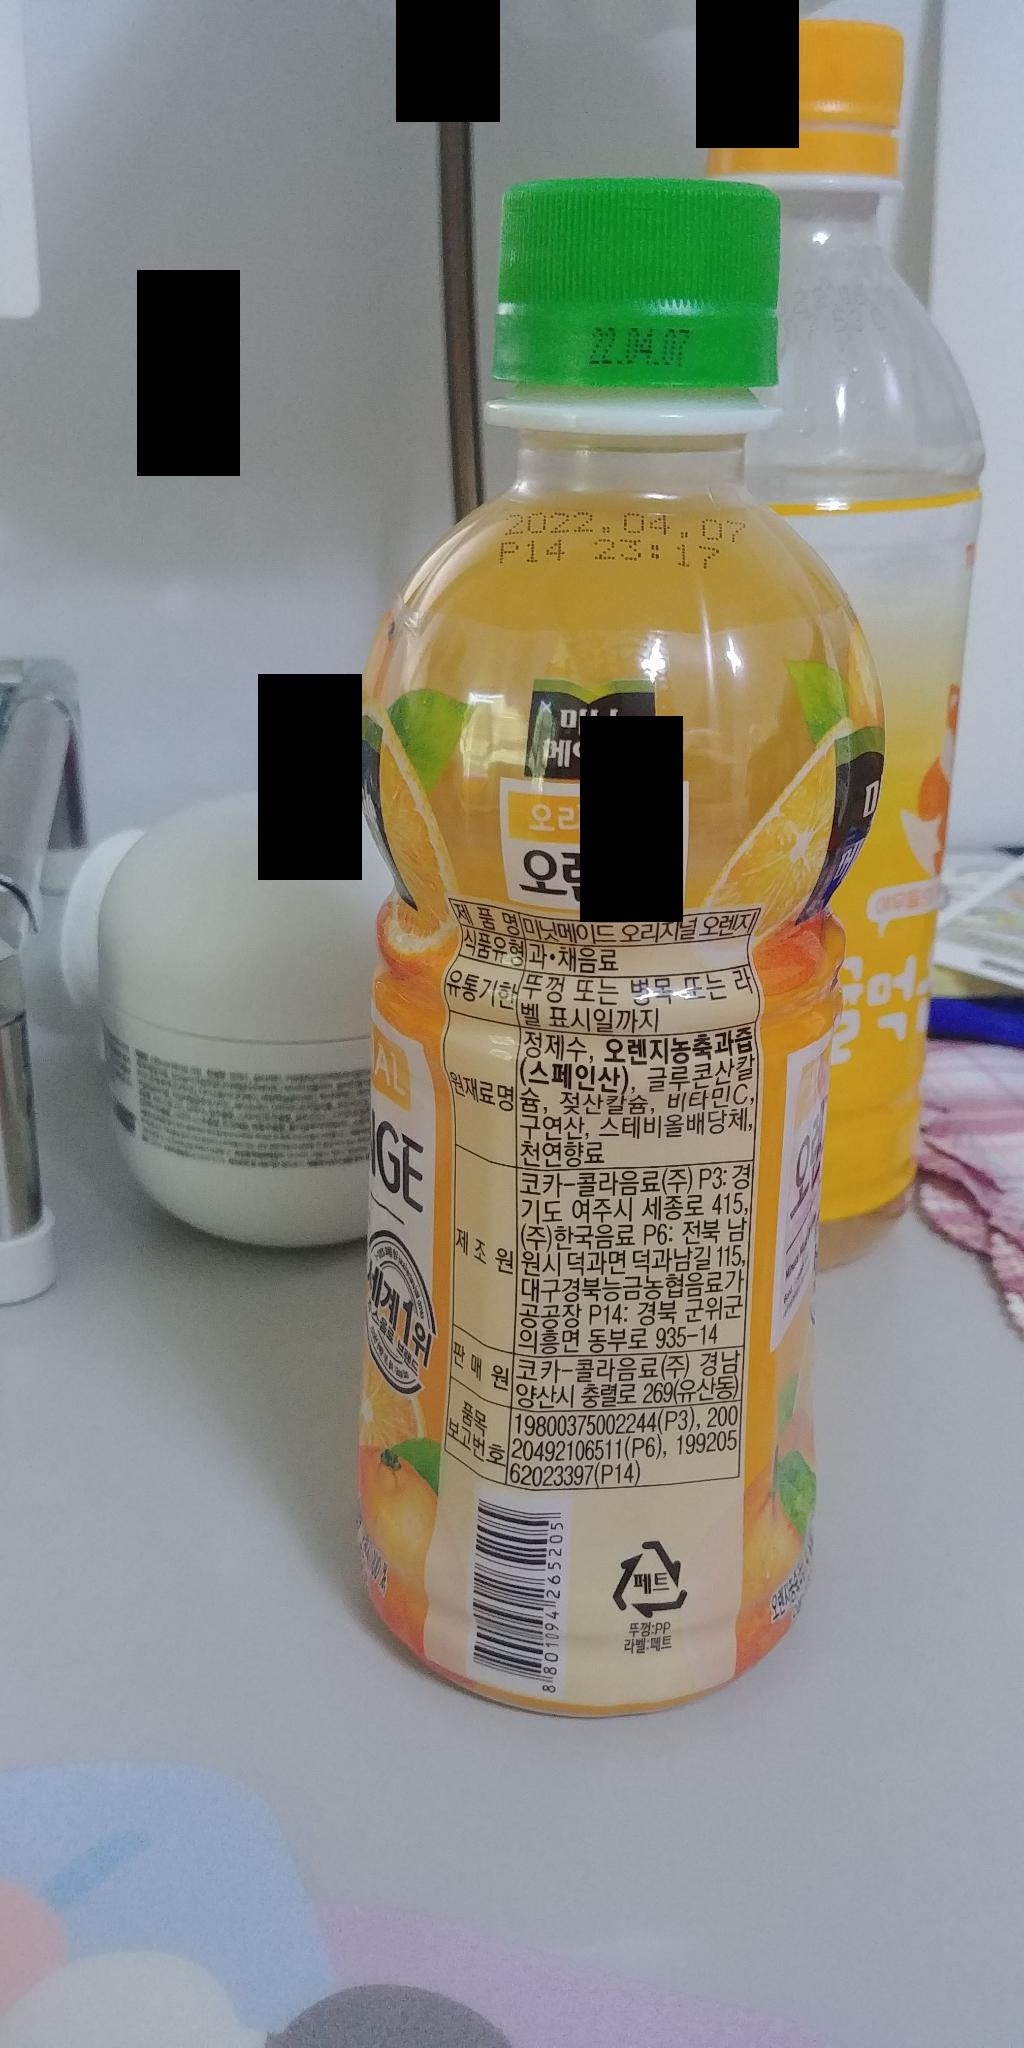minutemaid_org_orange: (272, 157, 878, 1735)
